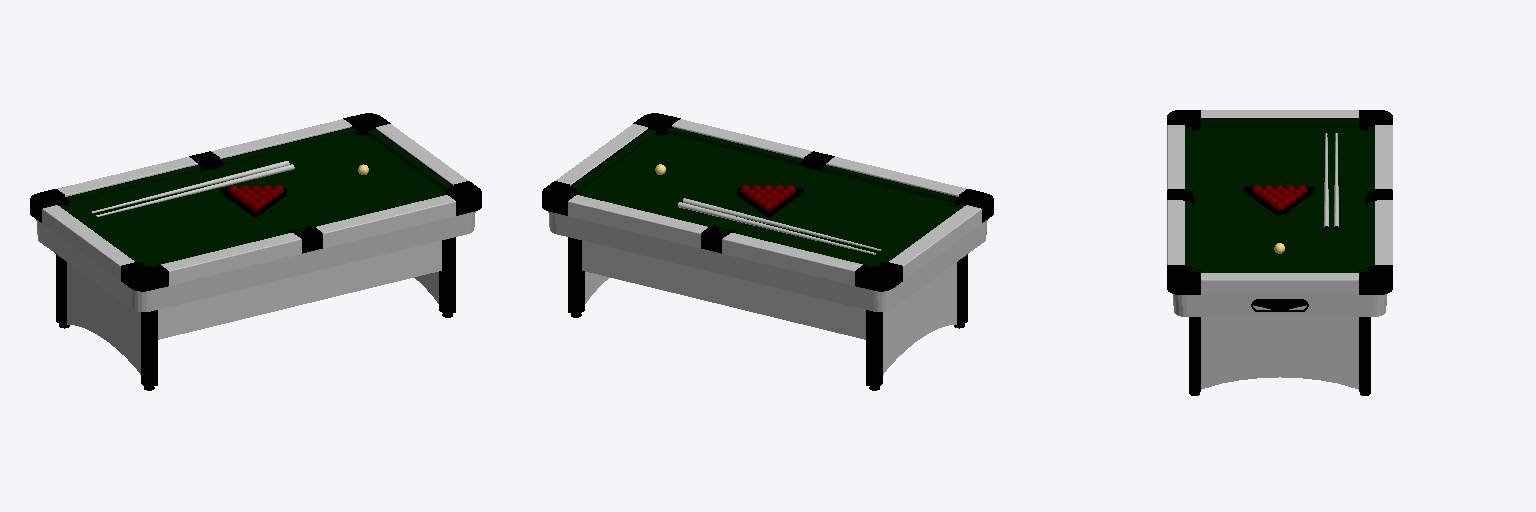
Rendered from pool-table.obj.
3 renders of one model, left to right at view 1: azimuth 30°, elevation 25°; view 2: azimuth 150°, elevation 25°; view 3: azimuth 270°, elevation 25°, orthographic.
Visible parts, largest first — view 1: Pool_table_Plane.001, Cue_Stick_1_Sphere.001, Cue_stick_2_Sphere; view 2: Pool_table_Plane.001, Cue_stick_2_Sphere, Cue_Stick_1_Sphere.001; view 3: Pool_table_Plane.001.
Boxes of the visible parts, x1,y1,x2,y2 form: Pool_table_Plane.001: [30, 113, 481, 390]; Cue_Stick_1_Sphere.001: [96, 164, 294, 216]; Cue_stick_2_Sphere: [91, 161, 289, 213]; Pool_table_Plane.001: [542, 113, 993, 390]; Cue_stick_2_Sphere: [678, 202, 876, 254]; Cue_Stick_1_Sphere.001: [683, 198, 881, 250]; Pool_table_Plane.001: [1167, 110, 1392, 395].
Size of the model in its own units: 2.81 by 0.9993 by 1.57.